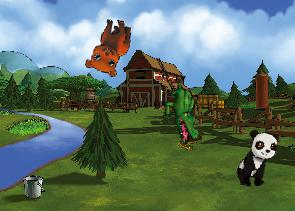bear: (83, 14, 133, 78)
crocodile: (151, 77, 214, 146)
panda: (233, 126, 281, 192)
